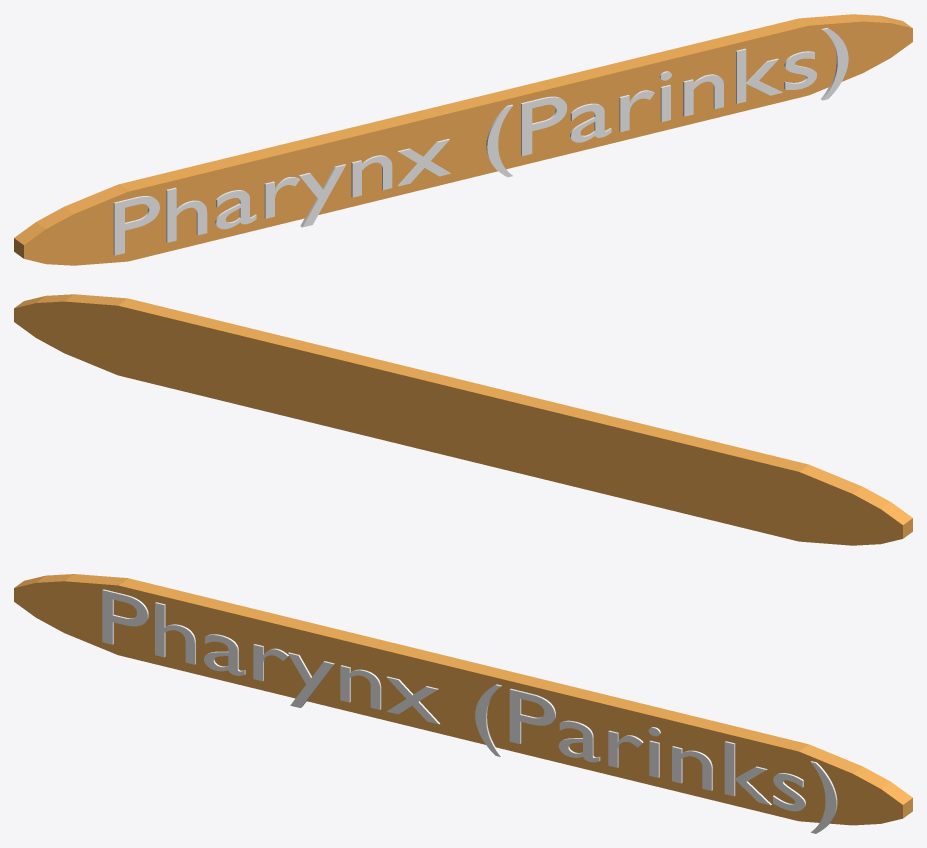
The model's file is txtPharynx.fbx.
3 renders of one model, top to bottom at view 1: azimuth 30°, elevation 25°; view 2: azimuth 150°, elevation 25°; view 3: azimuth 330°, elevation 25°, orthographic.
Visible parts, largest first — view 1: TagContainer.080, Text.081; view 2: TagContainer.080; view 3: TagContainer.080, Text.081.
Part boxes in pixels (left/top/right/bottom): TagContainer.080: left=14, top=14, right=912, bottom=265; Text.081: left=113, top=28, right=848, bottom=255; TagContainer.080: left=14, top=294, right=912, bottom=545; TagContainer.080: left=14, top=574, right=912, bottom=825; Text.081: left=102, top=589, right=837, bottom=833.
Size of the model in its own units: 551 by 45.66 by 11.92.
